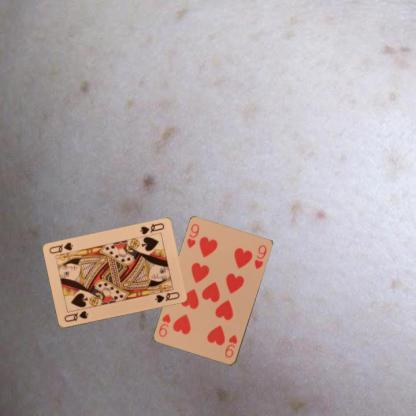9h: (184, 221, 200, 250), (222, 332, 238, 360)
Qs: (61, 308, 89, 324), (138, 220, 166, 236)
